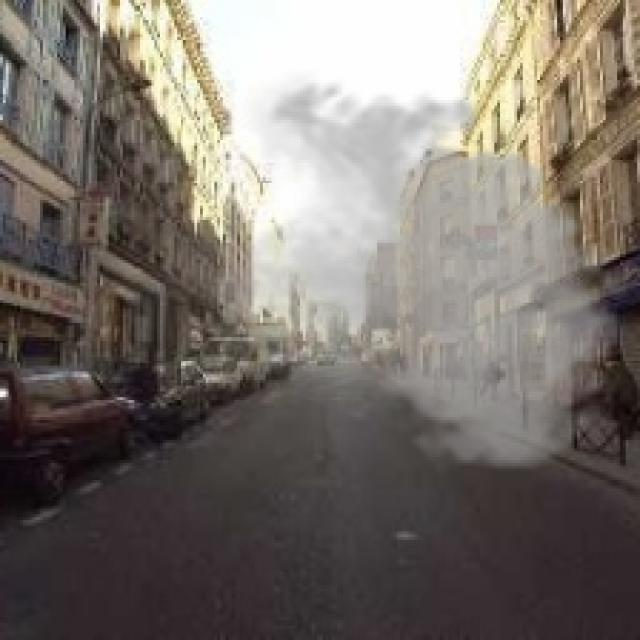Smoke: (220, 68, 637, 480)
